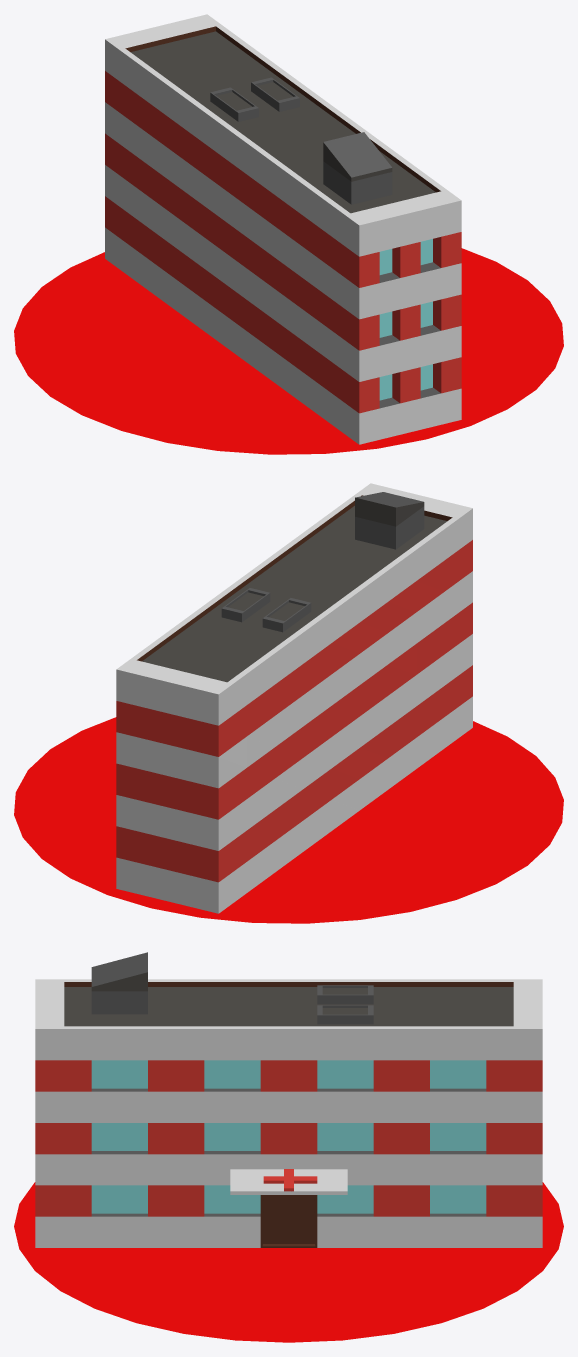
Rendered from BuildingRot2.fbx.
The picture shows the model from 3 angles, top to bottom: view 1: azimuth 30°, elevation 25°; view 2: azimuth 150°, elevation 25°; view 3: azimuth 270°, elevation 25°; orthographic projection.
Visible parts, largest first — view 1: Building.002; view 2: Building.002; view 3: Building.002.
Boxes of the visible parts, x1,y1,x2,y2 form: Building.002: (14, 14, 563, 454); Building.002: (14, 483, 563, 923); Building.002: (14, 952, 563, 1342).
Size of the model in its own units: 586 by 302 by 586.
